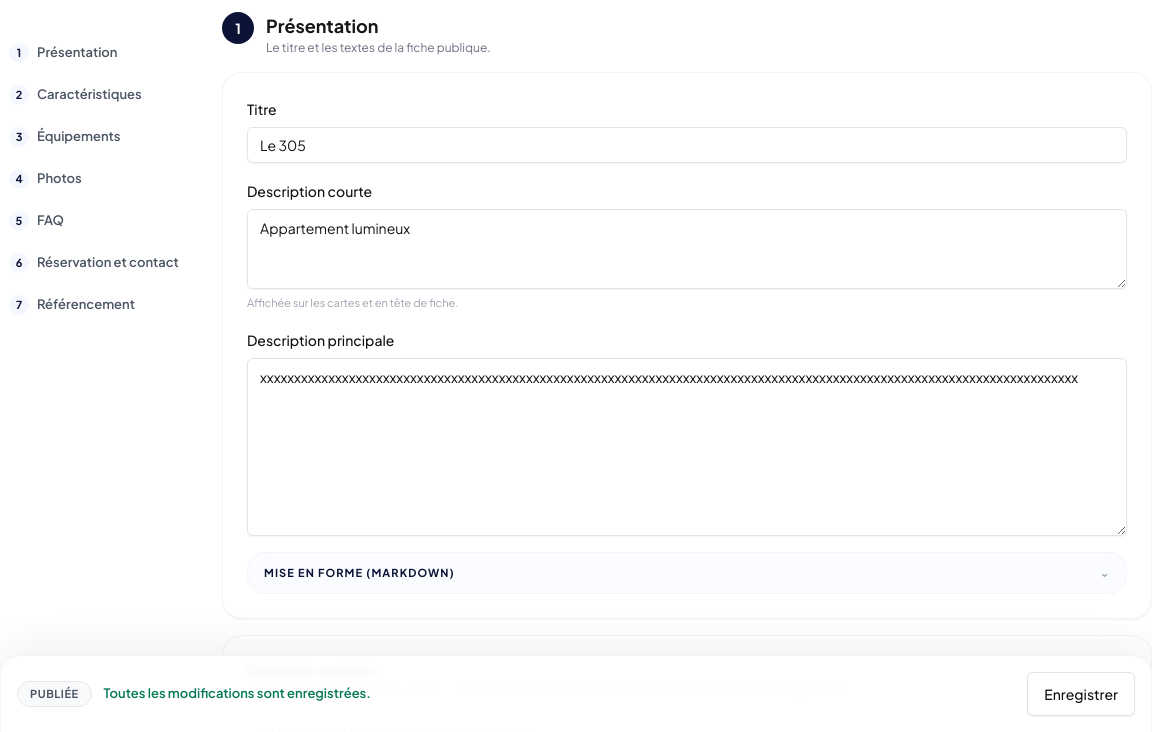
Scenario: spec 090 AC-04 — logement déjà en ligne › propose « Enregistrer », sans demande de publication, et confirme la mise en ligne
Click the button "Enregistrer".
click(1081, 694)  # box [1027, 672, 1135, 716]
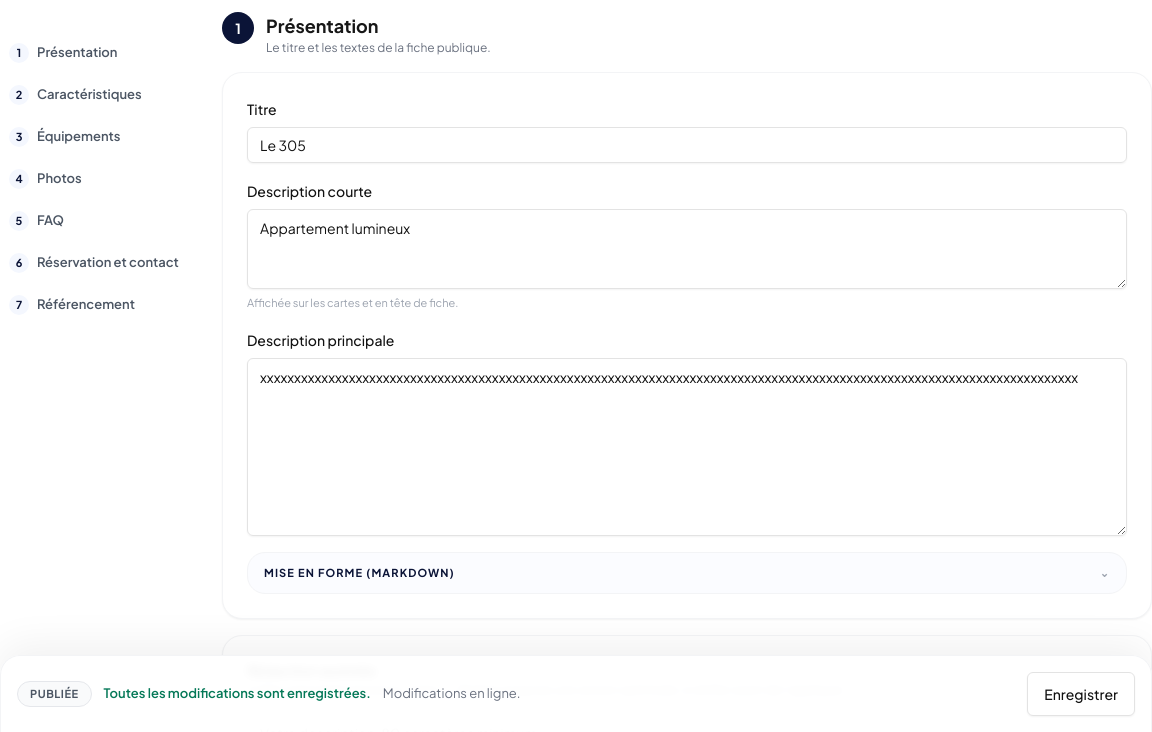
Check: the text "Modifications en ligne." is shown, box [383, 684, 521, 704]
